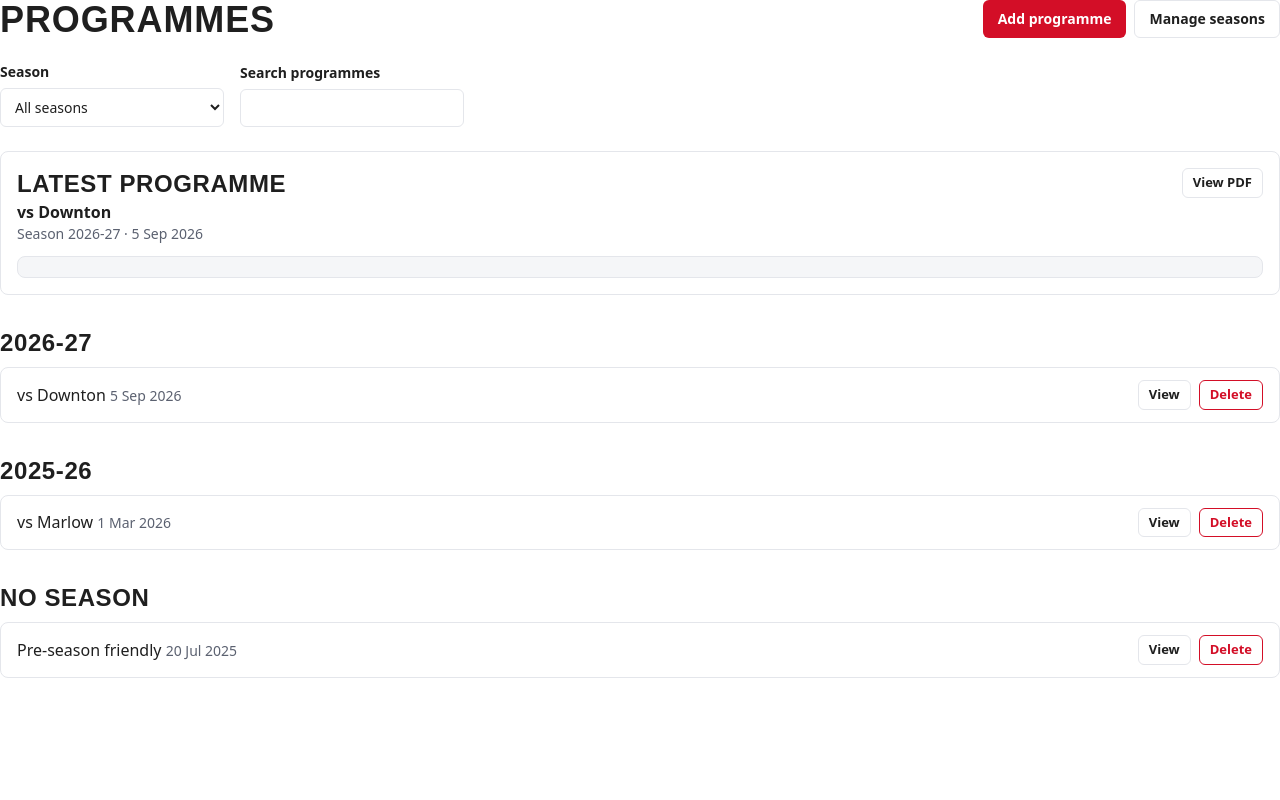
Test: Programmes editing › manages seasons: add, rename, and delete with the unlink warning
Click the button "Manage seasons".
click(1207, 19)  # box [1134,0,1279,38]
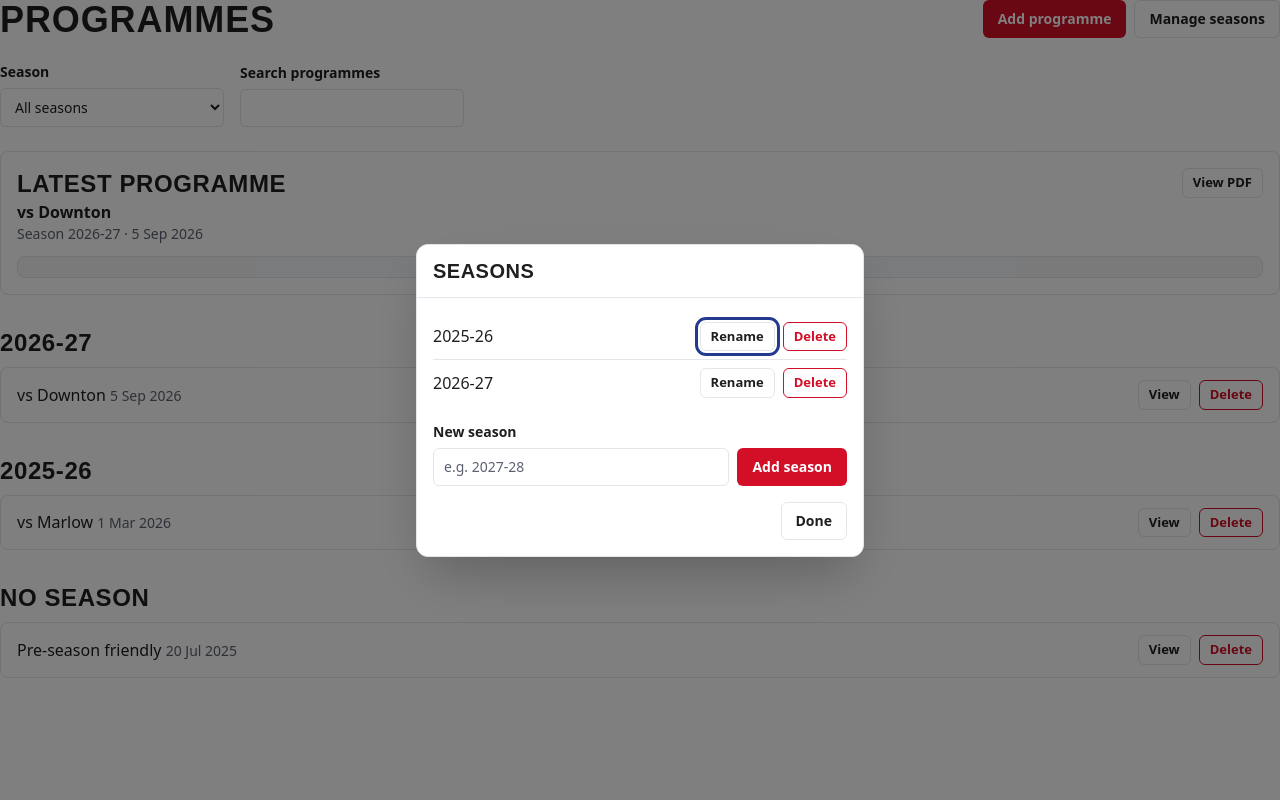
Type "2027-28" into the field labelled "New season".
click(581, 466); type("2027-28")  # box [433,448,730,486]
Click the button "Add season".
click(792, 466)  # box [738,448,847,486]
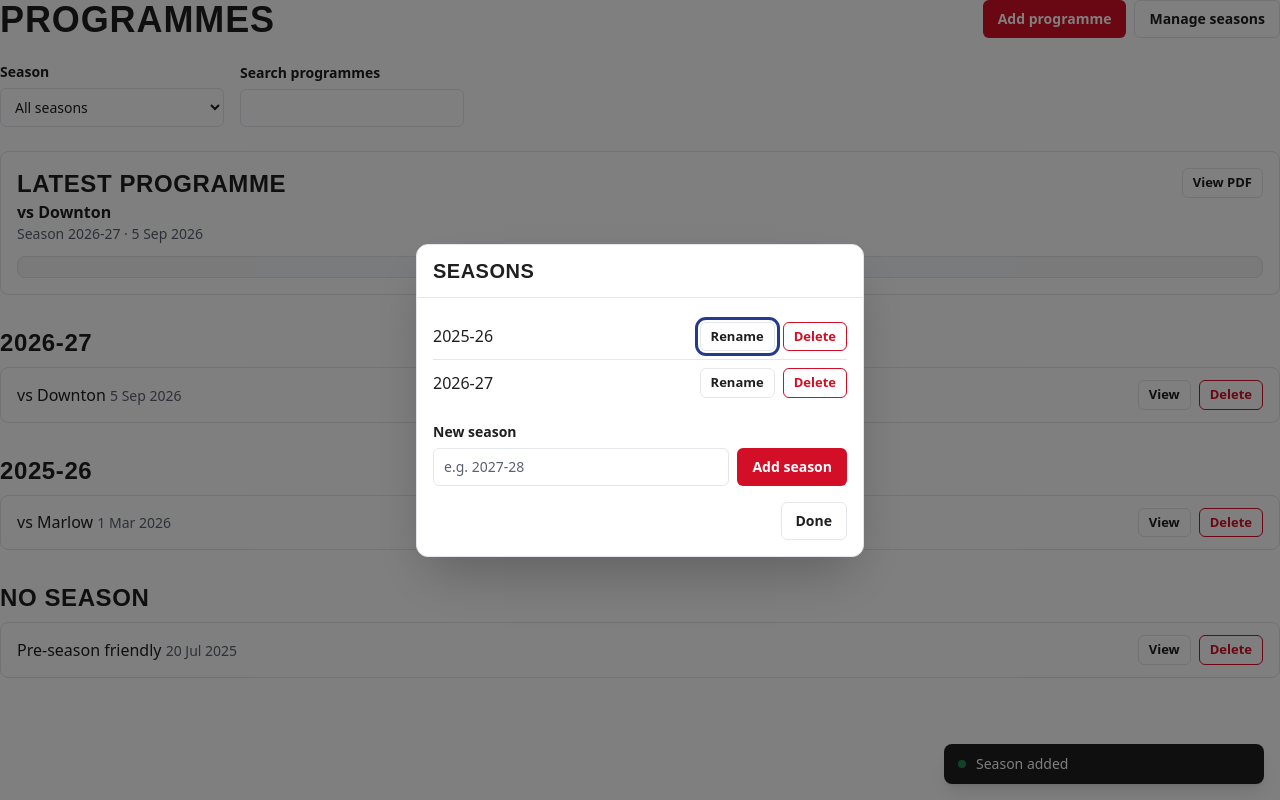
Expected: the button "Season added" is shown, [944,744,1264,784]
Click the 1st button "Rename".
click(737, 336)  # box [700,322,775,351]
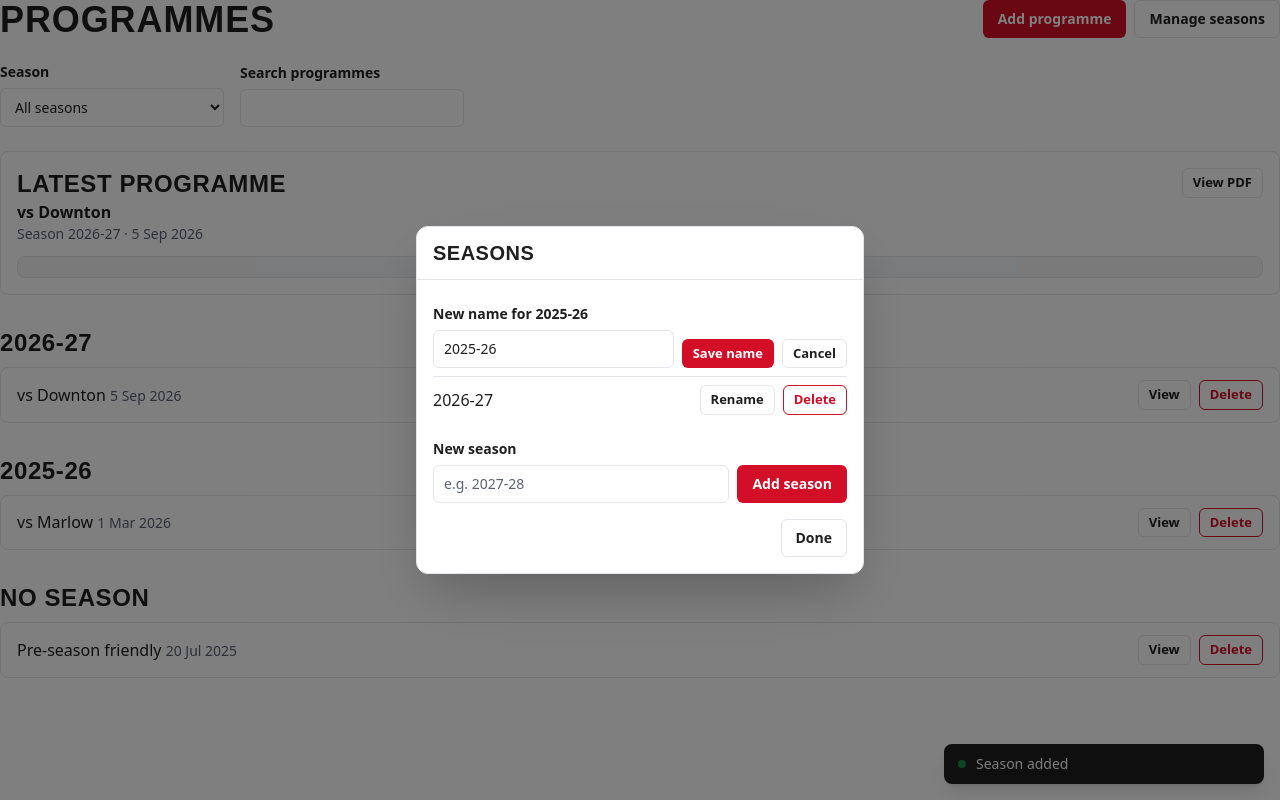
Replace the text in the field labelled "New name for 2025-26" with "2025/26" at (553, 349), box [433,330,674,368]
Click the button "Save name".
click(728, 354)  # box [682,339,774,368]
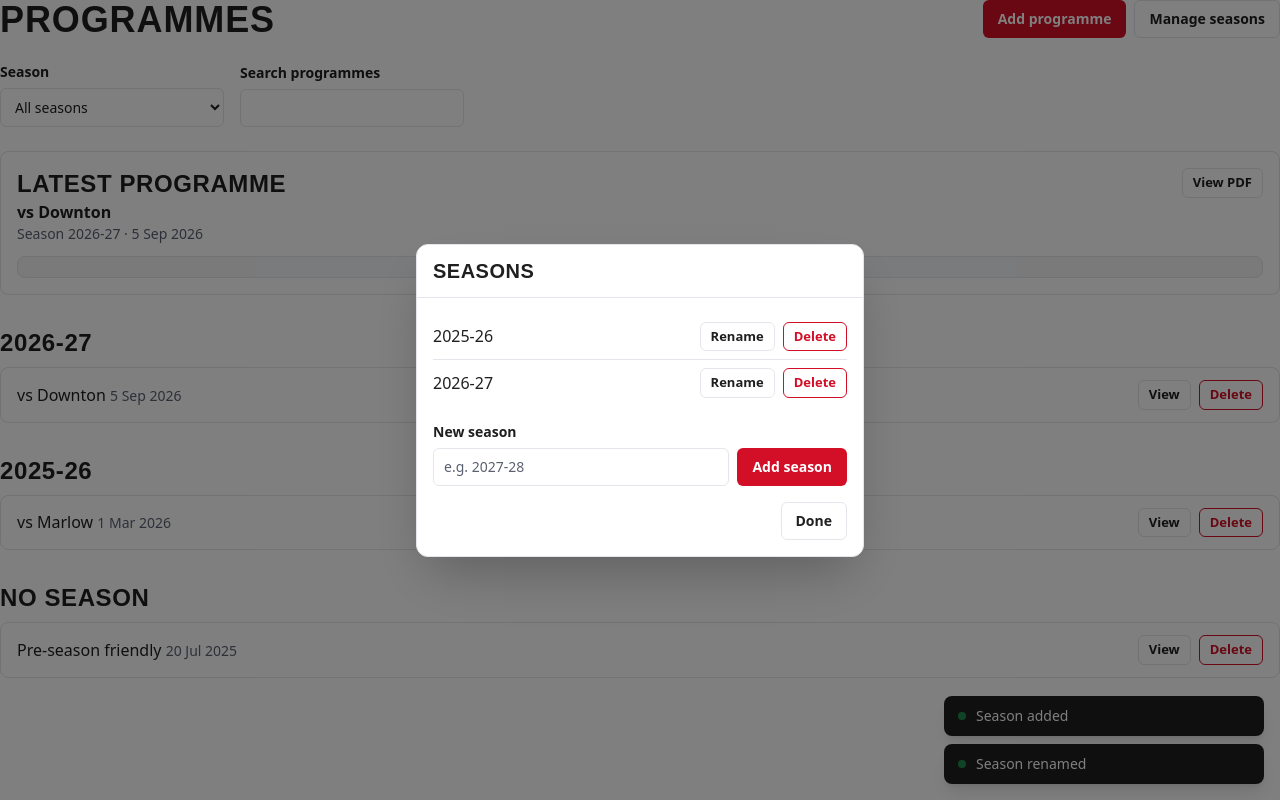
Expected: the button "Season renamed" is shown, [944,744,1264,784]
Click the 2nd button "Delete".
click(815, 383)  # box [783,368,847,398]
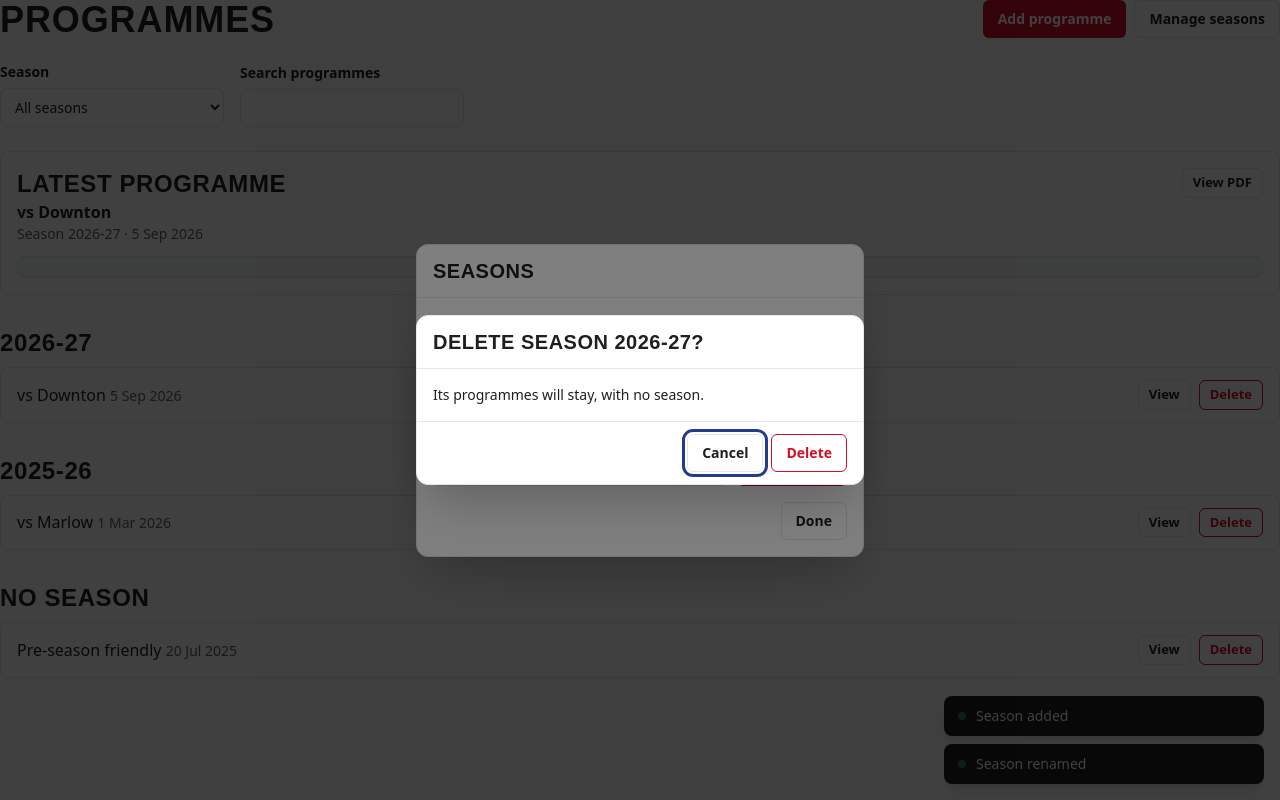
Click the button "Delete" below "Delete season 2026-27?".
click(809, 453)  # box [772,434,847,472]
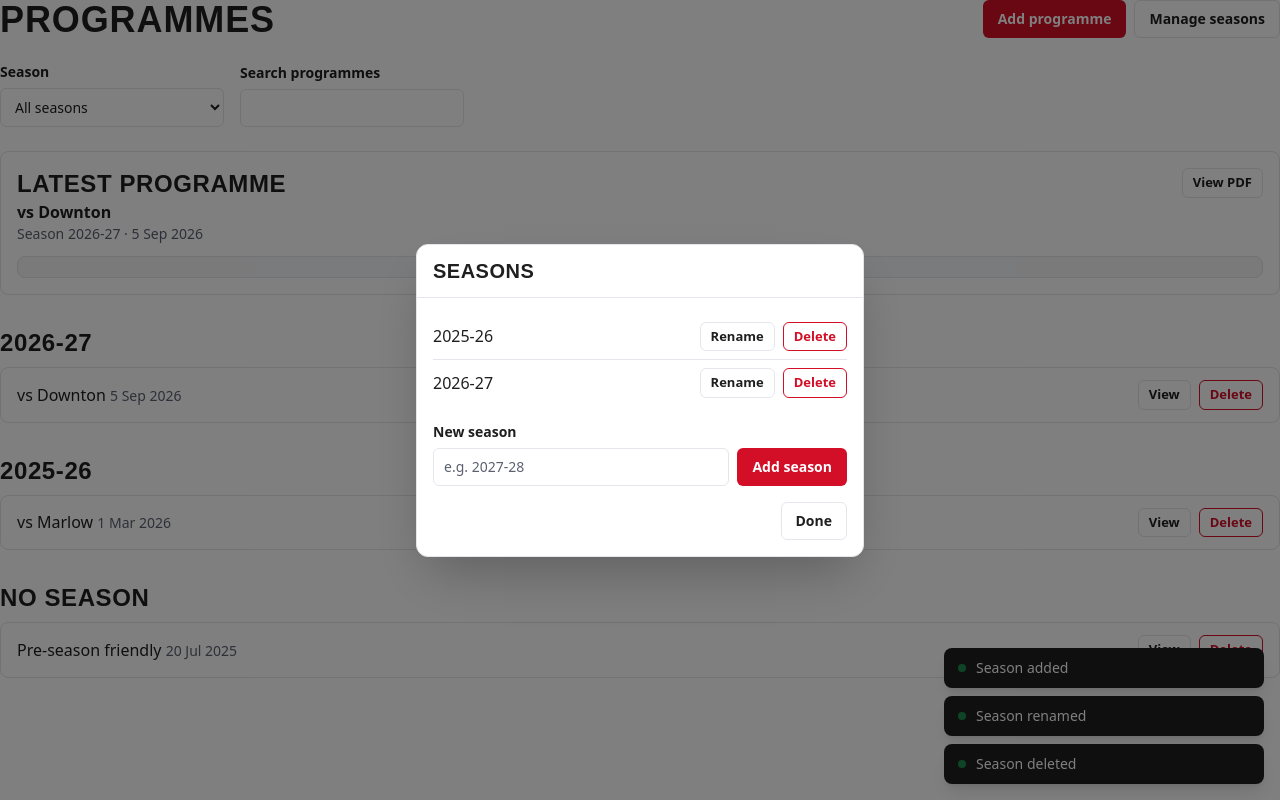
Expected: the button "Season deleted" is shown, [944,744,1264,784]
